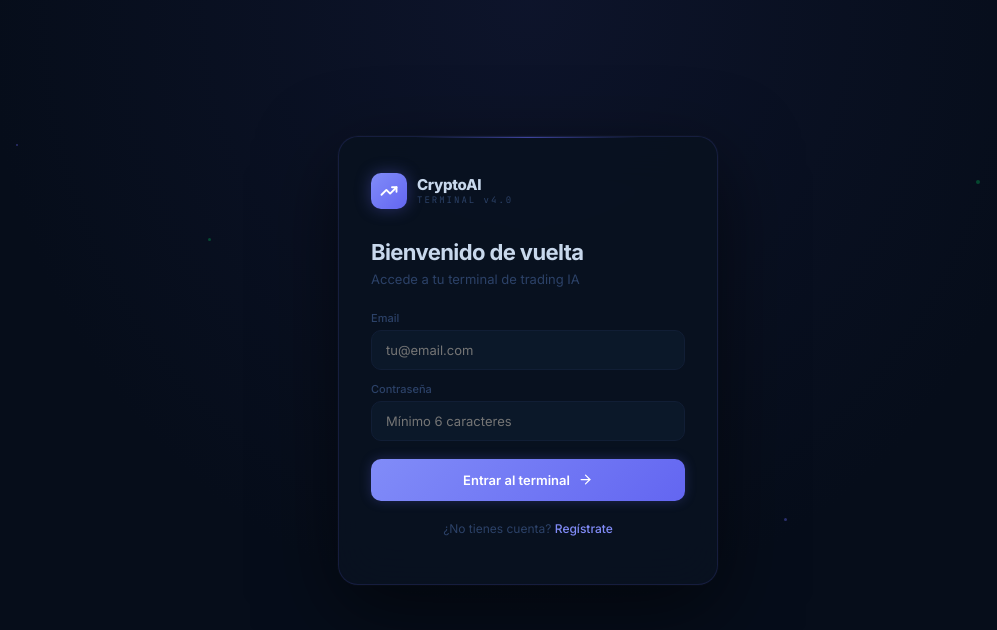
Test: Login › shows error message on 401 response
Type "user@test.com" into the field with placeholder "tu@email.com".
click(528, 350); type("user@test.com")  # box [371,330,685,370]
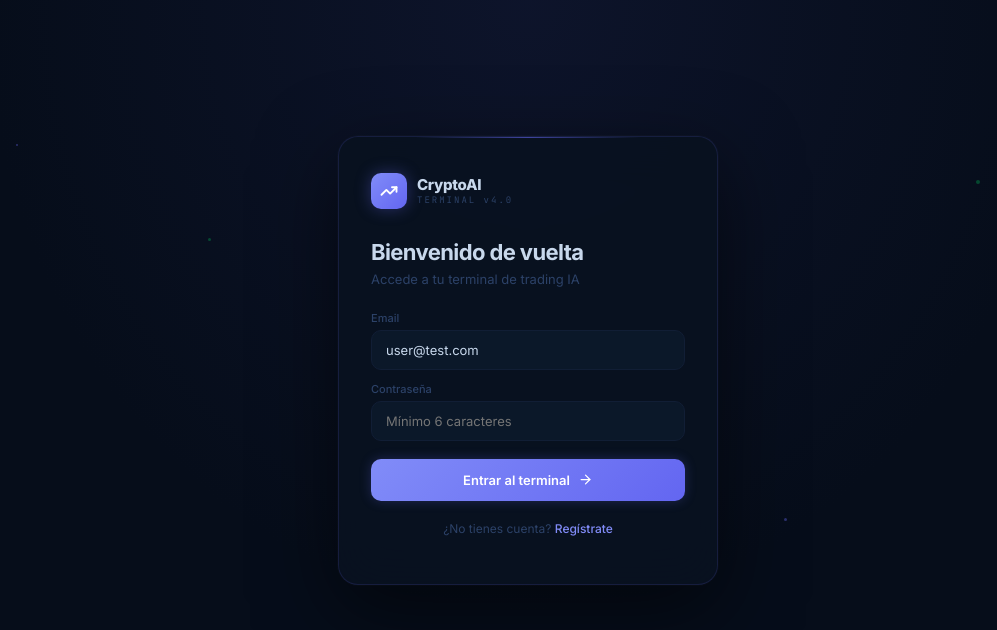
Type "password123" into the password field with placeholder "Mínimo 6 caracteres".
click(528, 420); type("password123")  # box [371,400,685,440]
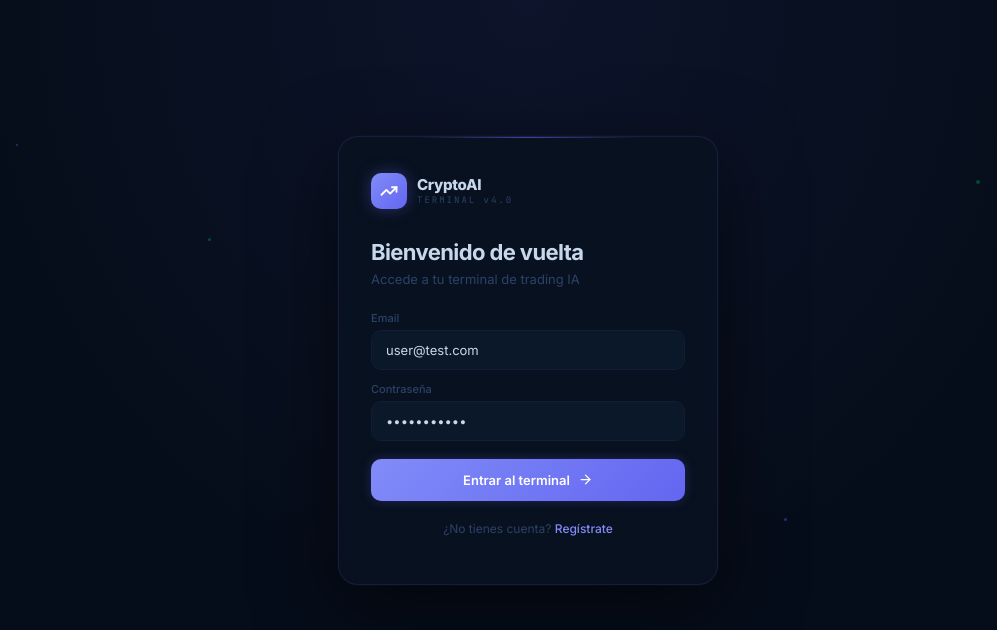
Click the button "Entrar al terminal".
click(528, 480)  # box [371,458,685,500]
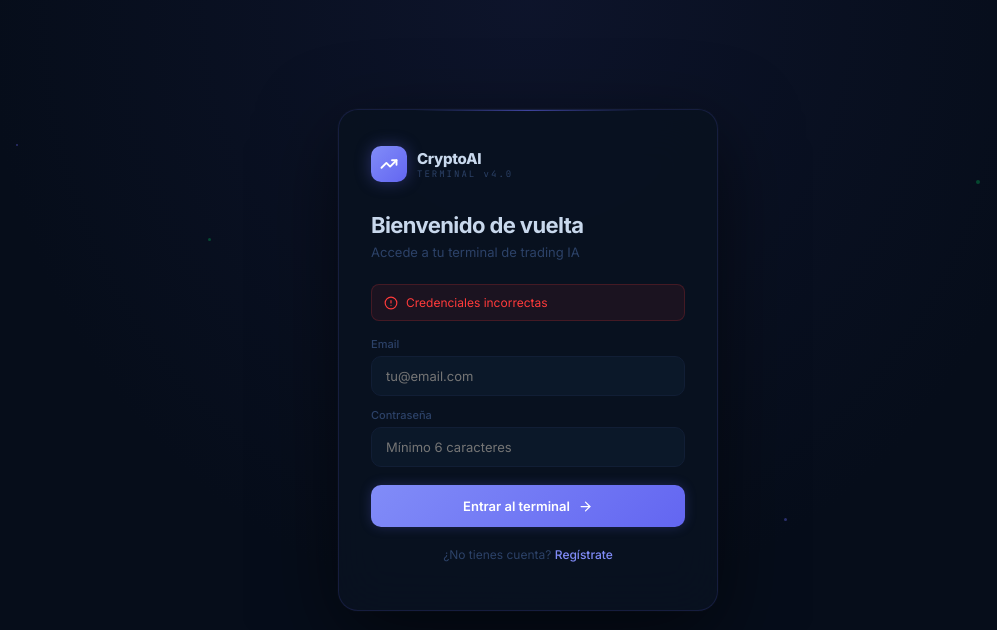
Result: the text "Credenciales incorrectas" is shown at [371,284,685,321]
